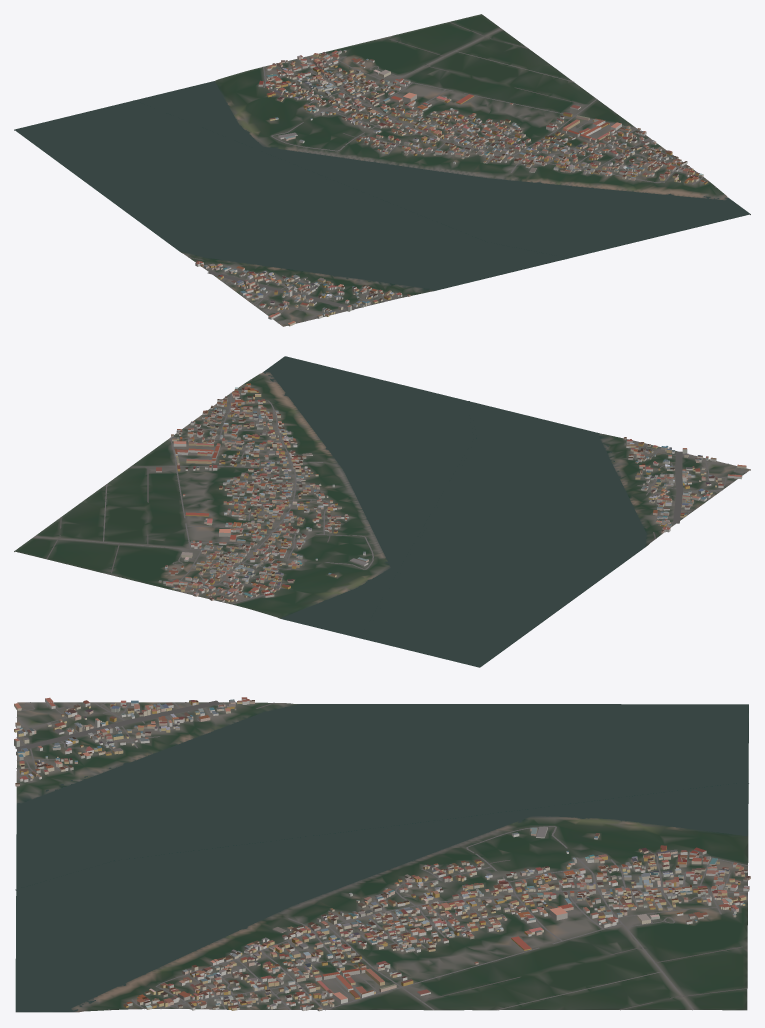
3 renders of one model, top to bottom at view 1: azimuth 30°, elevation 25°; view 2: azimuth 150°, elevation 25°; view 3: azimuth 270°, elevation 25°, orthographic. The views are drawn at different scales.
Visible parts, largest first — view 1: water, ground, buildings, roads; view 2: water, ground, buildings, roads; view 3: water, ground, buildings, roads.
Boxes of the visible parts, x1,y1,x2,y2 form: water: (15,81,749,290); ground: (14,14,750,326); buildings: (195,50,707,326); roads: (188,22,716,324); water: (264,356,646,667); ground: (14,357,750,667); buildings: (156,383,746,601); roads: (34,379,746,604); water: (15,704,748,1011); ground: (15,702,748,1012); buildings: (14,697,750,1011); roads: (15,700,747,1010).
Bounding box in the file's own units: 1414 × 20.92 × 1412.
